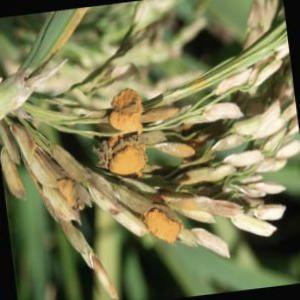Leaf_Scald: (108, 90, 153, 180), (146, 208, 186, 252), (51, 180, 84, 211)
